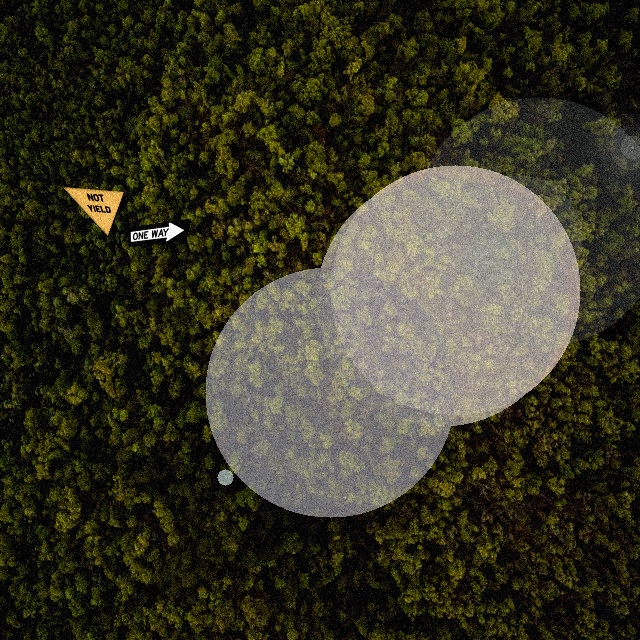NOT_YIELD: (61, 186, 125, 237)
ONE_WAY_ right: (127, 218, 191, 247)
